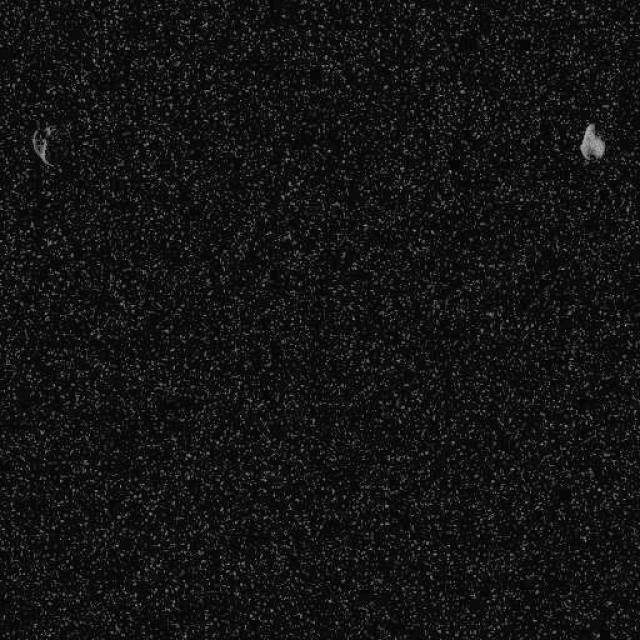D2: (30, 124, 56, 168), (577, 121, 605, 161)
